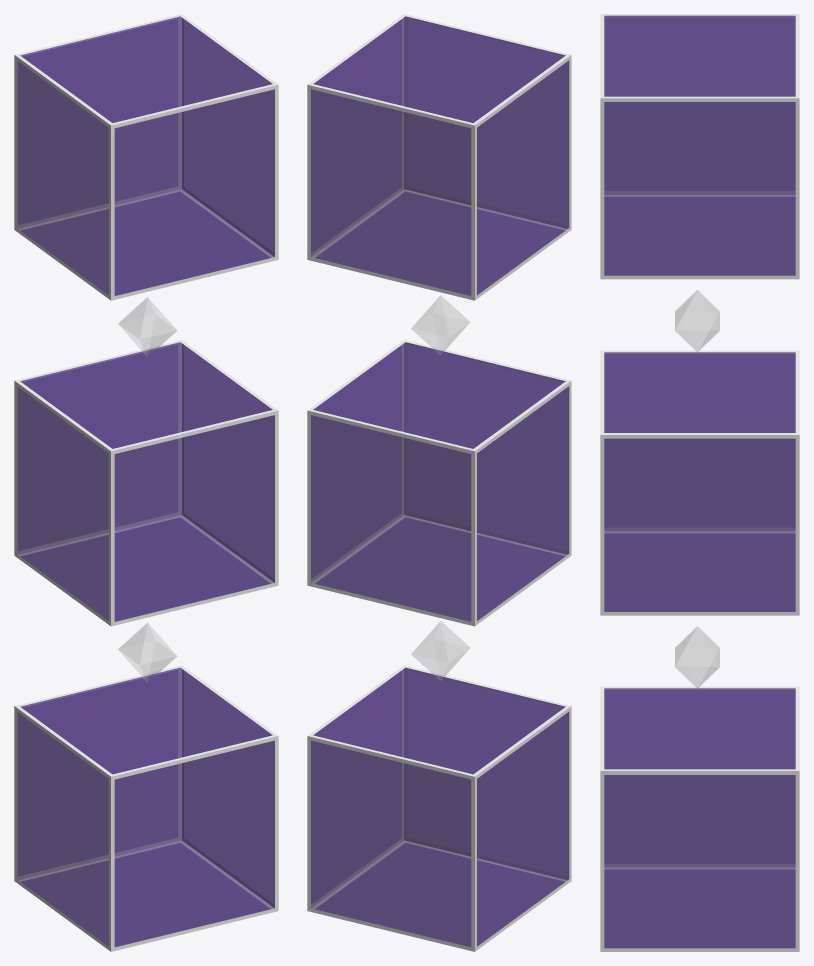
The model's file is StackC.fbx.
3 renders of one model, left to right at view 1: azimuth 30°, elevation 25°; view 2: azimuth 150°, elevation 25°; view 3: azimuth 270°, elevation 25°, orthographic. The views are drawn at different scales.
Visible parts, largest first — view 1: Cube_1, Cube_1_2, Cube_1_3, pyramid, pyramid_2; view 2: Cube_1, Cube_1_2, Cube_1_3, pyramid_2, pyramid; view 3: Cube_1, Cube_1_2, Cube_1_3, pyramid, pyramid_2.
Boxes of the visible parts, bbox=[...] form: Cube_1: bbox=[14, 14, 278, 300]; Cube_1_2: bbox=[14, 340, 278, 626]; Cube_1_3: bbox=[14, 665, 278, 951]; pyramid: bbox=[118, 297, 177, 356]; pyramid_2: bbox=[118, 623, 176, 682]; Cube_1: bbox=[307, 14, 571, 300]; Cube_1_2: bbox=[307, 340, 571, 626]; Cube_1_3: bbox=[307, 665, 571, 951]; pyramid_2: bbox=[411, 621, 469, 680]; pyramid: bbox=[411, 295, 469, 355]; Cube_1: bbox=[600, 14, 799, 279]; Cube_1_2: bbox=[600, 350, 799, 615]; Cube_1_3: bbox=[600, 686, 799, 951]; pyramid: bbox=[675, 290, 719, 351]; pyramid_2: bbox=[675, 626, 719, 688].
Bounding box in the file's own units: 538 × 2539 × 538.
